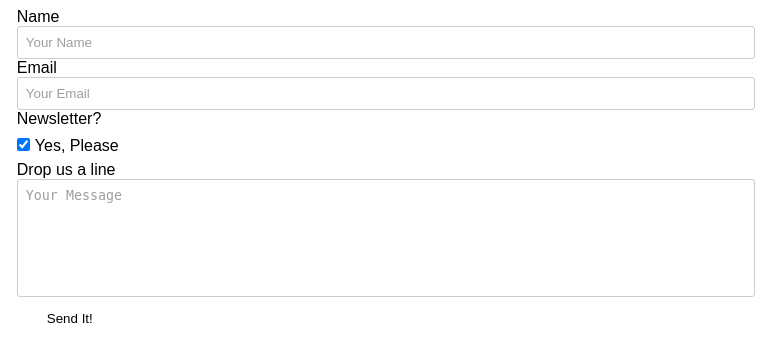
Scenario: 🧪 FORM: › submit tests: › should fail with message empty
Type "John Doe" into the field labelled "Name" at (386,42), box [17,26,755,59]
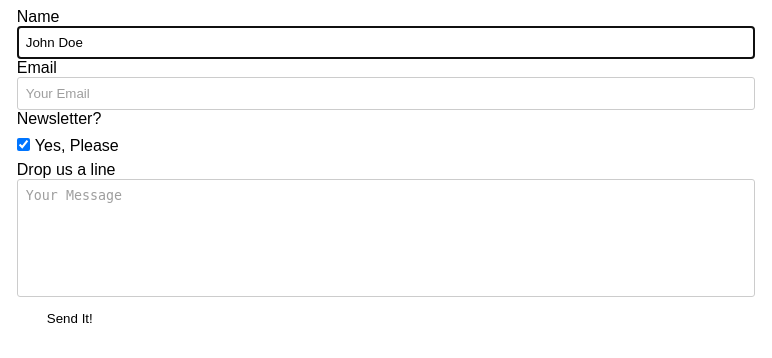
Type "test@example.com" into the field labelled "Email" at (386,94), box [17,77,755,110]
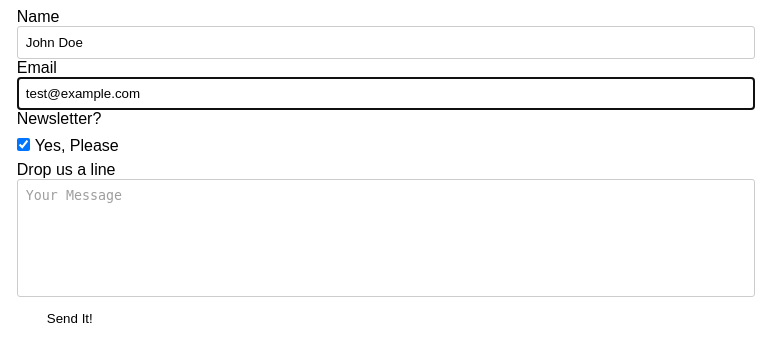
Click the button "Send it!" at (70,318), box [17,301,123,336]
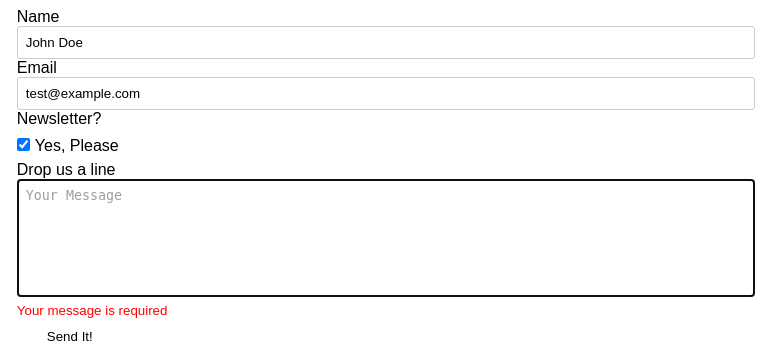
Now the text "Your message is required" is shown, box [17,303,168,318]
